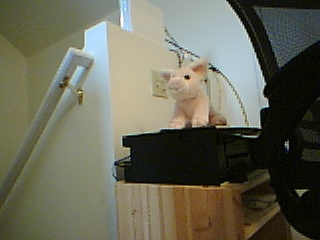piggy: (159, 57, 229, 128)
